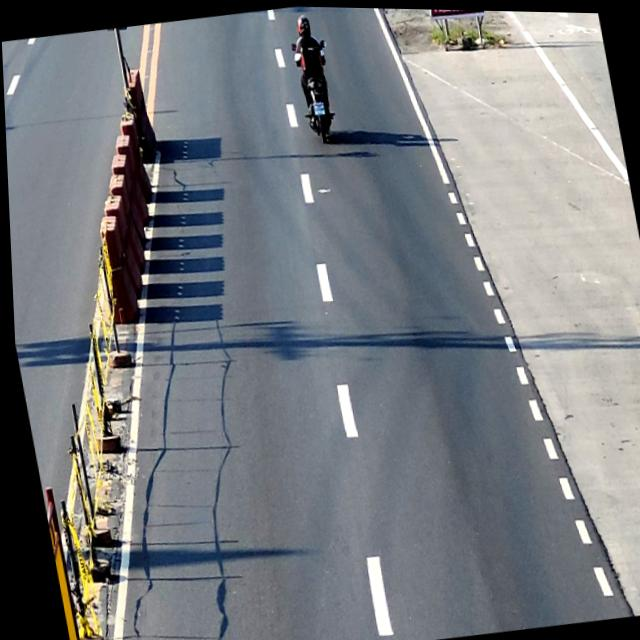License-Plate: (312, 101, 325, 114)
Motorcycle: (290, 35, 342, 144)
